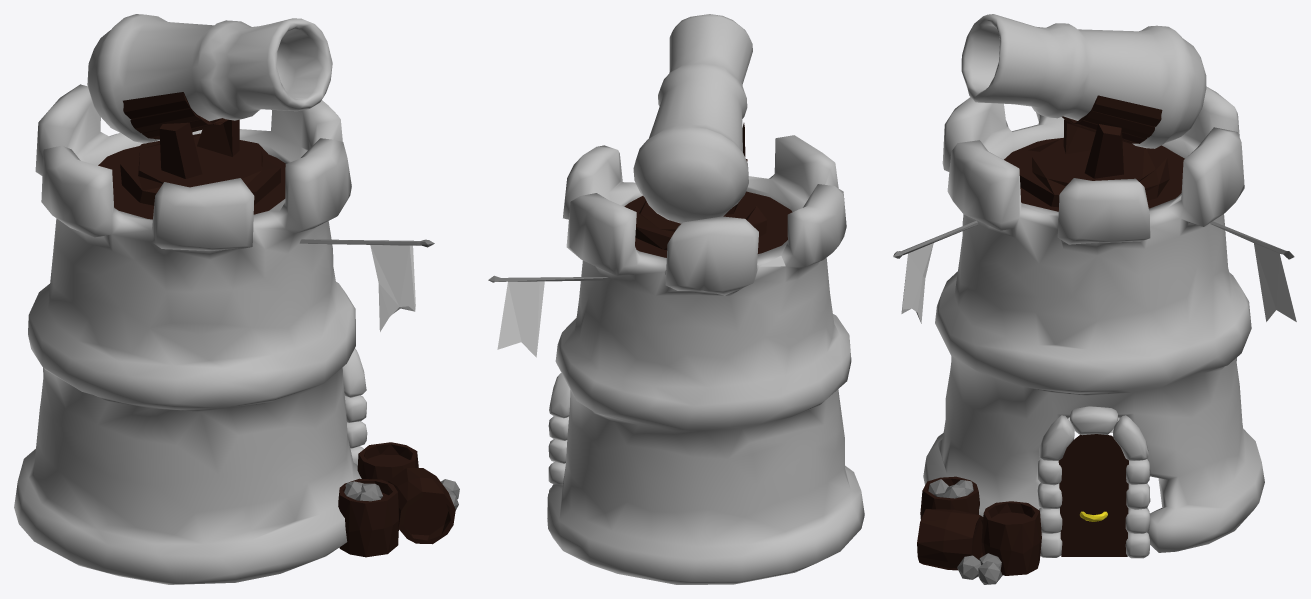
File: kule_lp_son (1).fbx
3 views of the same model, side by side, from view 1: azimuth 30°, elevation 25°; view 2: azimuth 150°, elevation 25°; view 3: azimuth 270°, elevation 25° (orthographic). The views are drawn at different scales.
Parts seen in each view (by area): view 1: kule, cannon, variller, bayraklar, kuletavan, taskapi, toplar; view 2: kule, cannon, bayraklar, taskapi, kuletavan; view 3: kule, cannon, variller, taskapi, kapı, bayraklar, kuletavan, toplar.
Boxes of the visible parts, x1,y1,x2,y2 form: kule: (14,84,361,584); cannon: (87,14,332,205); variller: (338,442,455,557); bayraklar: (299,239,434,331); kuletavan: (98,146,285,219); taskapi: (342,348,367,464); toplar: (344,479,459,510); kule: (547,135,864,584); cannon: (628,14,767,249); bayraklar: (488,256,785,357); taskapi: (548,373,570,491); kuletavan: (624,191,792,257); kule: (923,86,1264,552); cannon: (961,14,1206,207); variller: (917,476,1041,575); taskapi: (1037,406,1150,558); kapı: (1058,434,1128,556); bayraklar: (893,220,1296,323); kuletavan: (1004,137,1184,211); toplar: (928,479,1002,584).
Bounding box in the file's own units: 1137 × 1556 × 1140.
